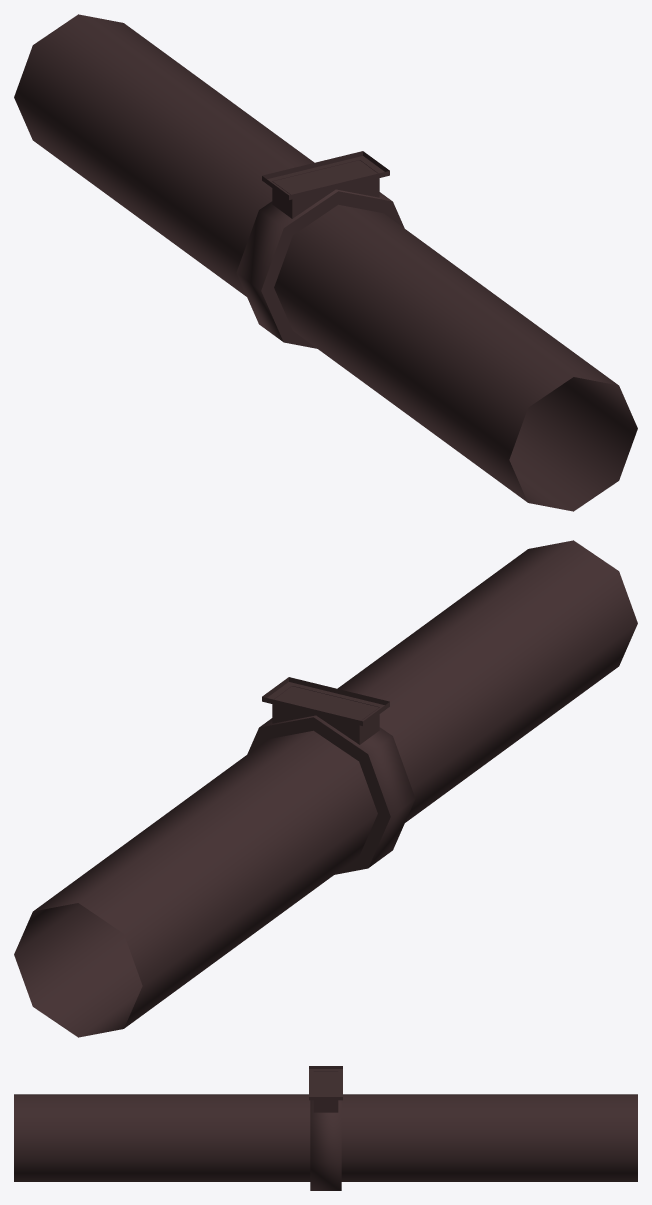
The model's file is SW_ENV_PipeStraight_01m.fbx.
The picture shows the model from 3 angles, top to bottom: view 1: azimuth 30°, elevation 25°; view 2: azimuth 150°, elevation 25°; view 3: azimuth 270°, elevation 25°; orthographic projection. The views are drawn at different scales.
Parts seen in each view (by area): view 1: SW_ENV_PipeStraight_01m; view 2: SW_ENV_PipeStraight_01m; view 3: SW_ENV_PipeStraight_01m.
Part boxes in pixels (x1,y1,x2,y2): SW_ENV_PipeStraight_01m: (14, 14, 637, 511); SW_ENV_PipeStraight_01m: (14, 540, 637, 1037); SW_ENV_PipeStraight_01m: (14, 1066, 637, 1190).
Bounding box in the file's own units: 0.18 × 0.19 × 1.
